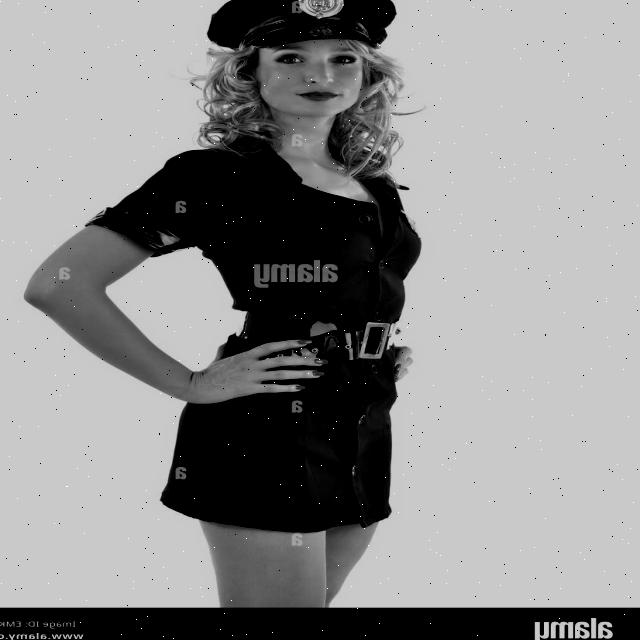police: (3, 0, 528, 607)
